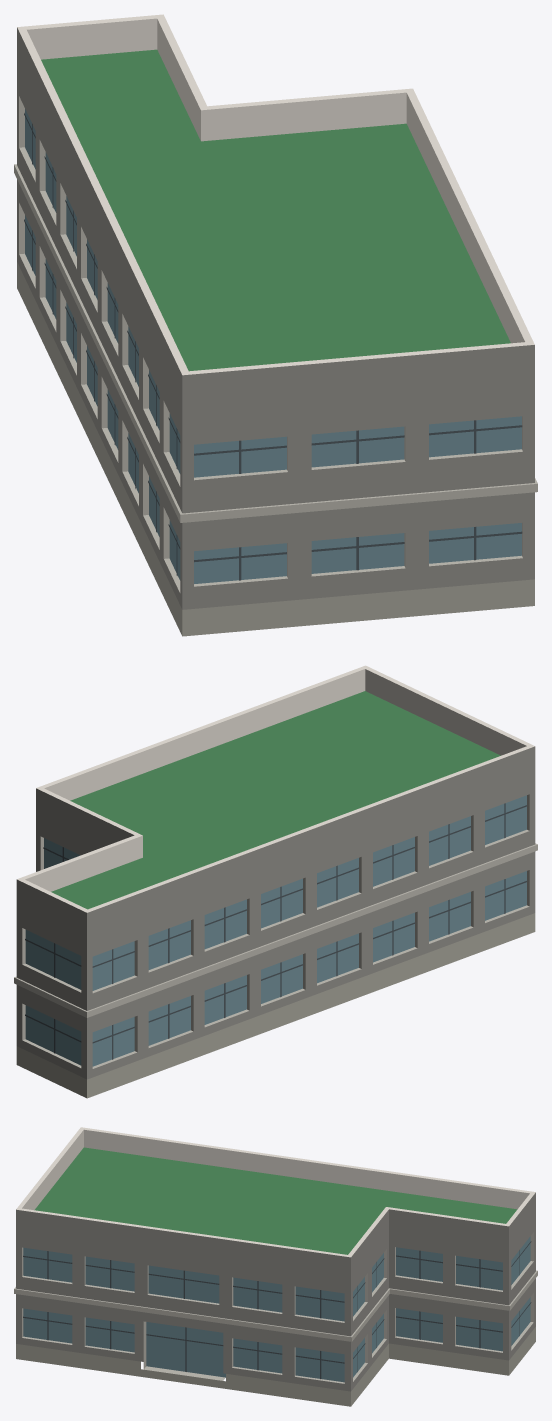
The picture shows the model from 3 angles, top to bottom: view 1: azimuth 30°, elevation 25°; view 2: azimuth 150°, elevation 25°; view 3: azimuth 270°, elevation 25°; orthographic projection. The views are drawn at different scales.
Parts seen in each view (by area): view 1: wing2__roof, wing2__brick, wing2__glass, wing2__parapet-concrete, wing2__trim-concrete, wing2__base-stone, wing2__frame; view 2: wing2__brick, wing2__roof, wing2__glass, wing2__parapet-concrete, wing2__base-stone, wing2__trim-concrete, wing2__frame; view 3: wing2__brick, wing2__glass, wing2__roof, wing2__parapet-concrete, wing2__base-stone, wing2__trim-concrete, wing2__frame.
Part boxes in pixels (x1,y1,x2,y2): wing2__roof: (41, 49, 510, 371); wing2__brick: (17, 27, 534, 609); wing2__glass: (25, 109, 521, 583); wing2__parapet-concrete: (17, 14, 534, 375); wing2__trim-concrete: (14, 96, 537, 592); wing2__base-stone: (17, 262, 534, 636); wing2__frame: (24, 113, 522, 580); wing2__brick: (16, 746, 535, 1079); wing2__roof: (51, 691, 500, 909); wing2__glass: (25, 795, 526, 1066); wing2__parapet-concrete: (17, 665, 534, 912); wing2__base-stone: (16, 913, 535, 1098); wing2__trim-concrete: (14, 794, 537, 1068); wing2__frame: (25, 803, 527, 1059); wing2__brick: (16, 1192, 535, 1391); wing2__glass: (23, 1236, 530, 1382); wing2__roof: (34, 1147, 517, 1254); wing2__parapet-concrete: (16, 1127, 535, 1257); wing2__base-stone: (16, 1327, 535, 1406); wing2__trim-concrete: (14, 1232, 537, 1383); wing2__frame: (23, 1241, 531, 1379).
Bounding box in the file's own units: 16.72 × 8.83 × 28.08.
